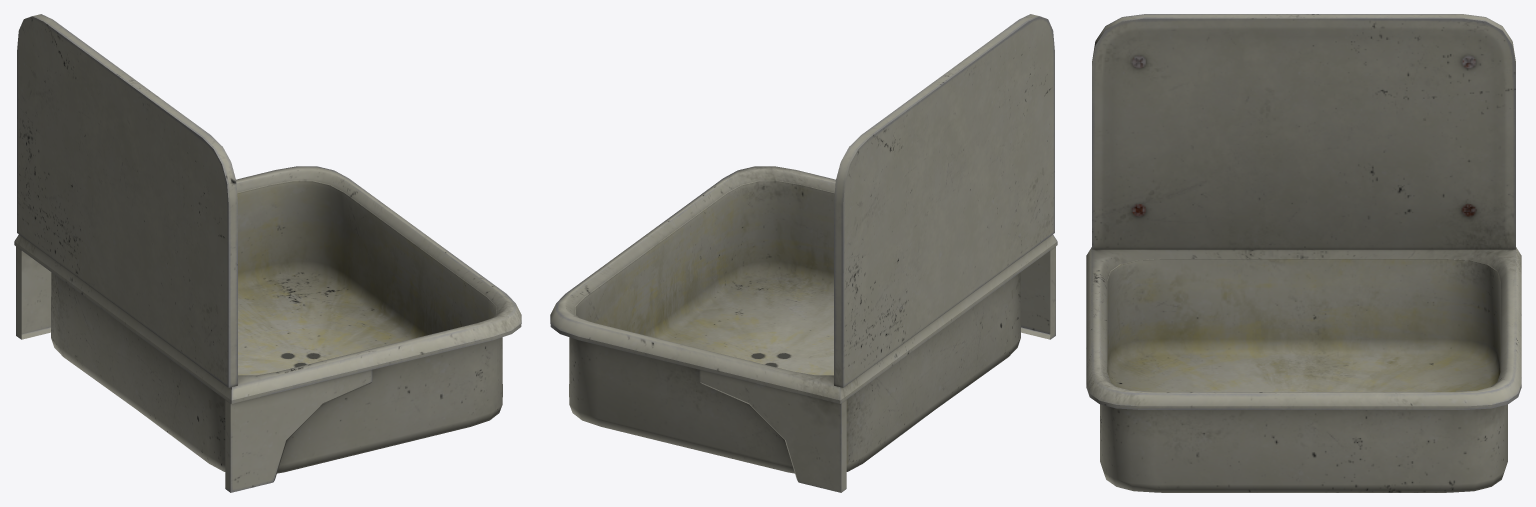
The model's file is Sink_02.fbx.
3 renders of one model, left to right at view 1: azimuth 30°, elevation 25°; view 2: azimuth 150°, elevation 25°; view 3: azimuth 270°, elevation 25°, orthographic.
Visible parts, largest first — view 1: Sink02_Base_low; view 2: Sink02_Base_low; view 3: Sink02_Base_low.
Boxes of the visible parts, x1,y1,x2,y2 form: Sink02_Base_low: [14, 14, 521, 492]; Sink02_Base_low: [550, 14, 1057, 492]; Sink02_Base_low: [1086, 14, 1521, 492].
Bounding box in the file's own units: 53.28 × 58.09 × 65.1.
1 material, 1 textured.
